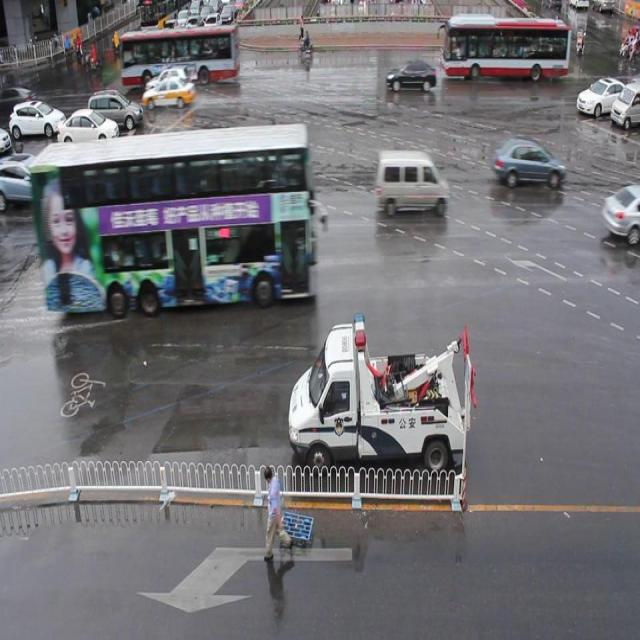car: (491, 135, 566, 191), (238, 166, 308, 218), (600, 184, 640, 239), (574, 76, 630, 115), (384, 59, 436, 94)
truck: (373, 149, 448, 216)
van: (36, 124, 312, 301), (440, 14, 569, 78), (120, 28, 239, 82)
